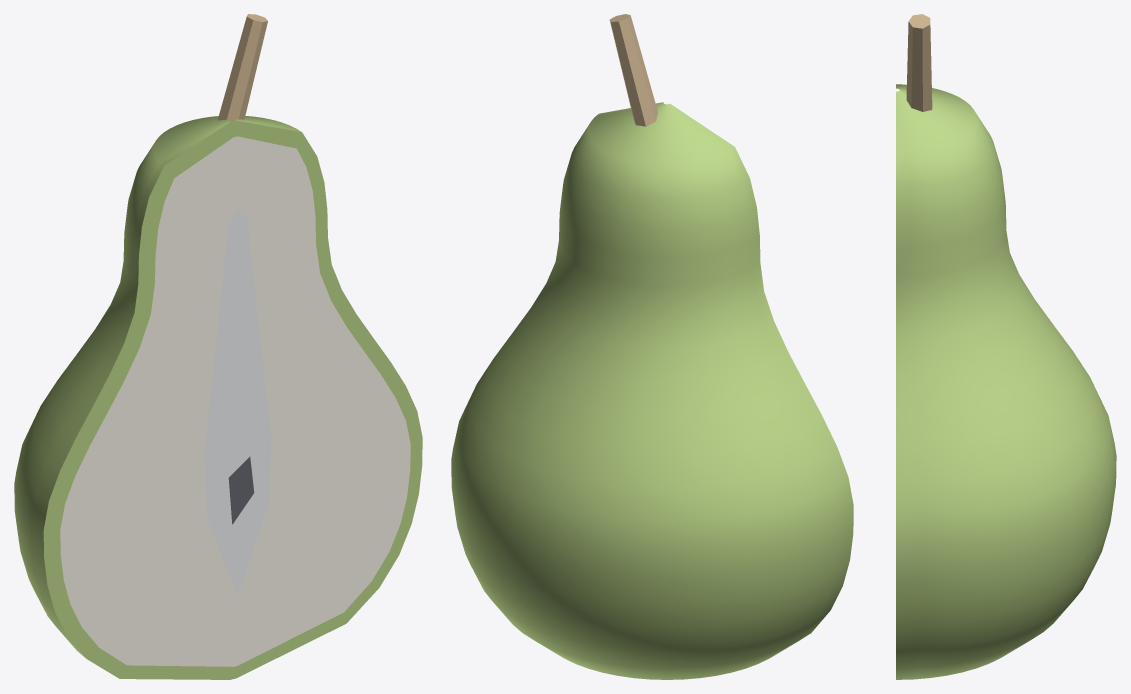
The model's file is fresh-produce-and-groceries-pear-half-236b58f9__24316.glb.
The picture shows the model from 3 angles, left to right: view 1: azimuth 30°, elevation 25°; view 2: azimuth 150°, elevation 25°; view 3: azimuth 270°, elevation 25°; orthographic projection. The views are drawn at different scales.
Parts seen in each view (by area): view 1: pear-half; view 2: pear-half; view 3: pear-half.
Boxes of the visible parts, box(x1,y1,x2,y2) form: pear-half: box(14, 14, 422, 679); pear-half: box(451, 14, 853, 679); pear-half: box(896, 14, 1116, 679).
Bounding box in the file's own units: 0.0739 × 0.1205 × 0.0393.
